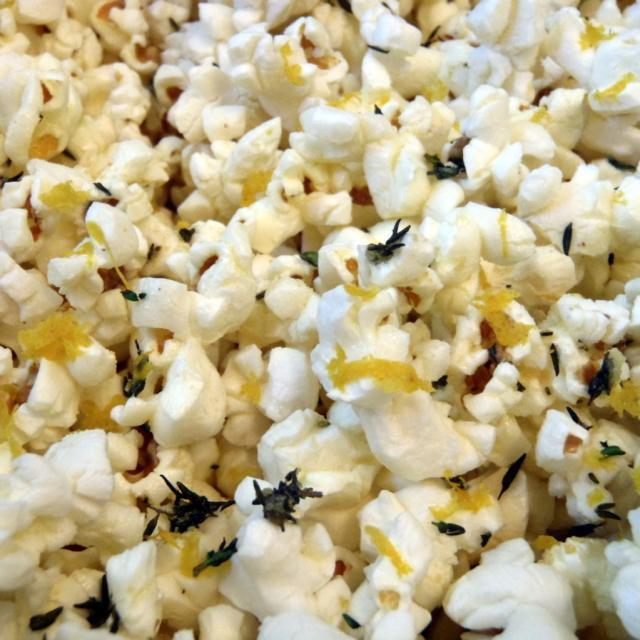Popcorn: (3, 0, 639, 639)
